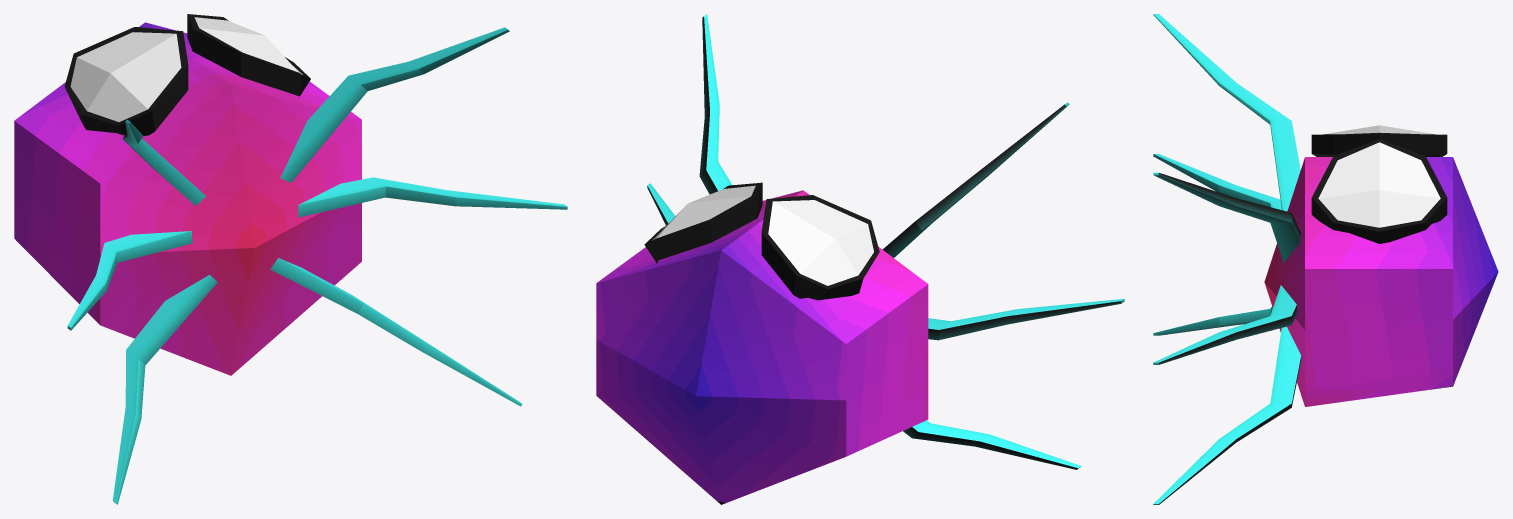
File: BouncingBugEnemy.fbx
3 views of the same model, side by side, from view 1: azimuth 30°, elevation 25°; view 2: azimuth 150°, elevation 25°; view 3: azimuth 270°, elevation 25° (orthographic). The views are drawn at different scales.
Visible parts, largest first — view 1: BouncingBugEnemyMesh; view 2: BouncingBugEnemyMesh; view 3: BouncingBugEnemyMesh.
Part boxes in pixels (x1,y1,x2,y2): BouncingBugEnemyMesh: (14, 14, 567, 504); BouncingBugEnemyMesh: (596, 14, 1124, 504); BouncingBugEnemyMesh: (1153, 14, 1498, 504).
Bounding box in the file's own units: 287 × 210 × 201.
